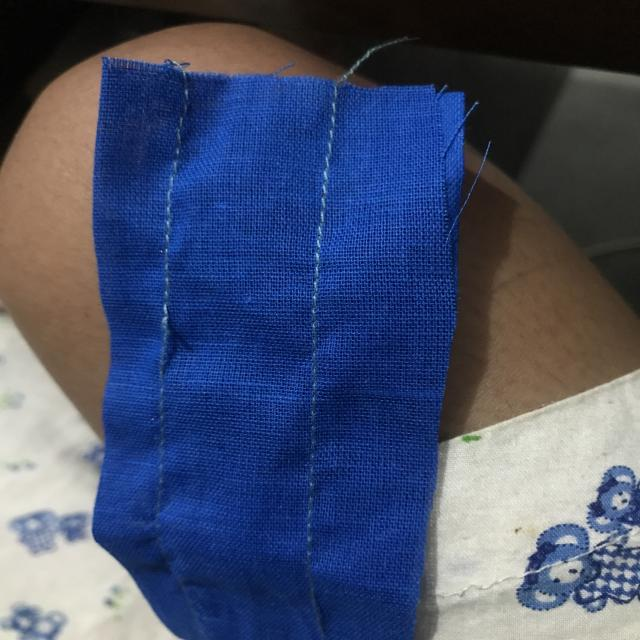good: (310, 219, 326, 326)
skip: (143, 294, 194, 381)
